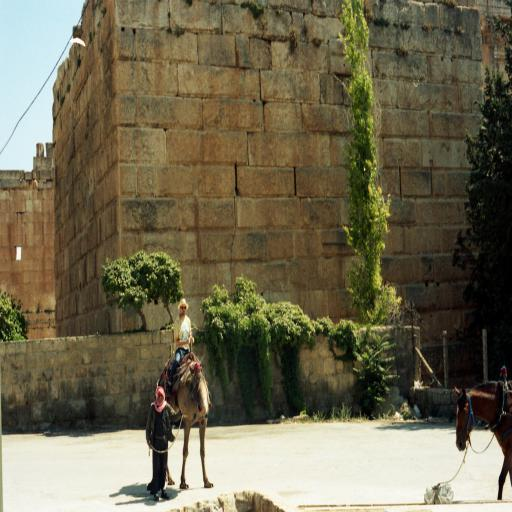horse: (156, 352, 214, 490), (453, 378, 512, 500)
